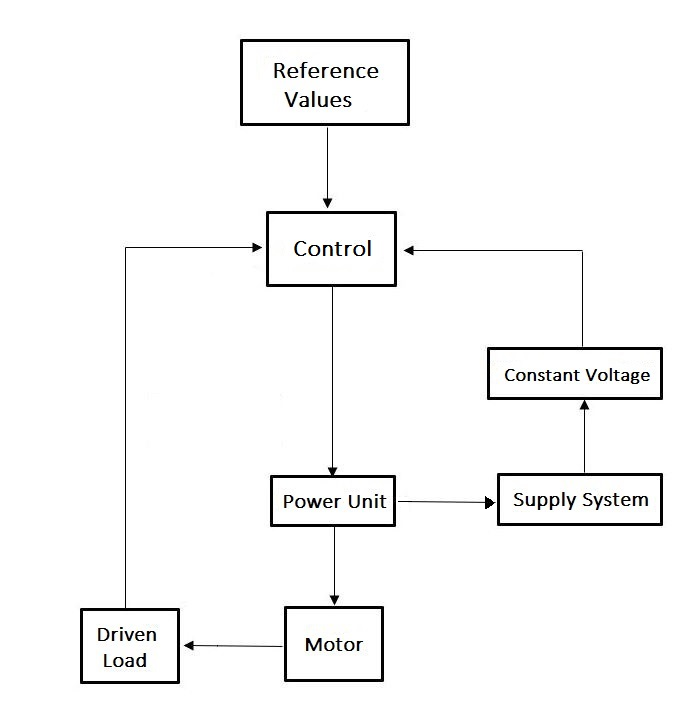arrow: (119, 239, 265, 610), (401, 243, 588, 346), (325, 282, 340, 478), (181, 636, 282, 652), (318, 121, 335, 209), (396, 496, 498, 509), (575, 398, 592, 473), (328, 526, 343, 605)
process: (237, 34, 413, 128), (263, 206, 405, 292), (483, 343, 665, 401), (491, 470, 668, 529), (76, 604, 184, 687), (281, 603, 386, 684), (265, 471, 400, 531)
text: (270, 58, 380, 110), (511, 489, 650, 512), (502, 365, 653, 386), (92, 623, 158, 669), (281, 490, 387, 512), (291, 238, 375, 260), (301, 634, 366, 654)
